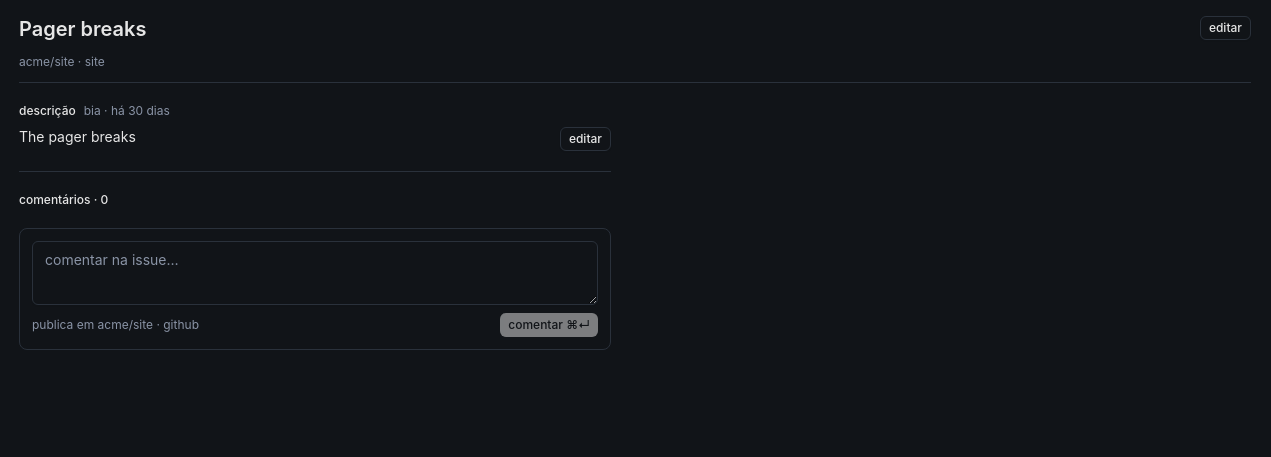
a title edit posts with the updatedAt read; a 409 says so, reloads, keeps the draft, and the next save sends the reloaded updatedAt (#757)
The image size is (1271, 457).
Expected: the heading "Pager breaks" is shown, [19,17,146,41]
Click the 1st button "editar" at (1225,28), box [1200,16,1251,40]
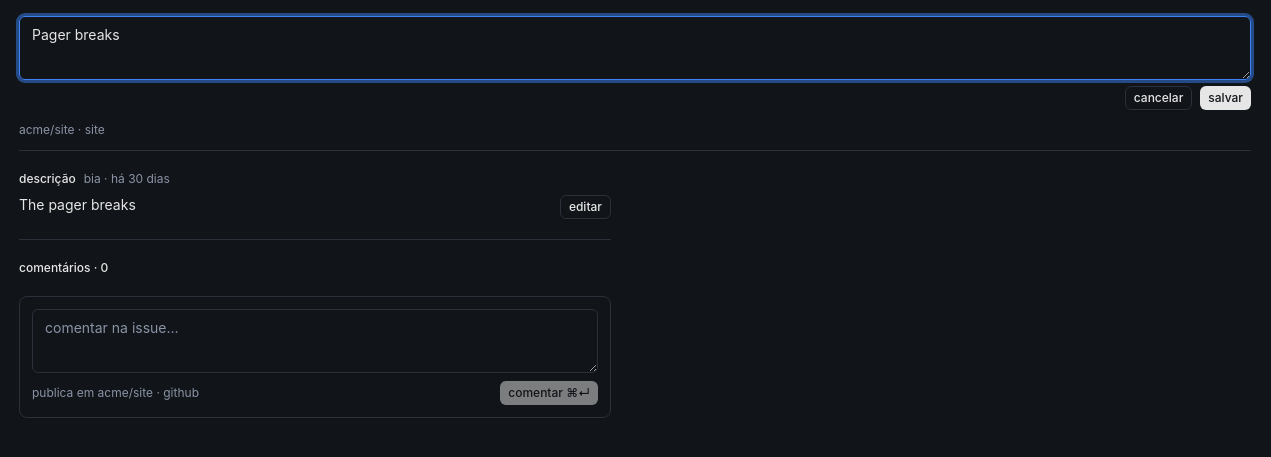
Replace the text in the text box named "título" with "Pager fixed" at (635,48), box [19,16,1251,80]
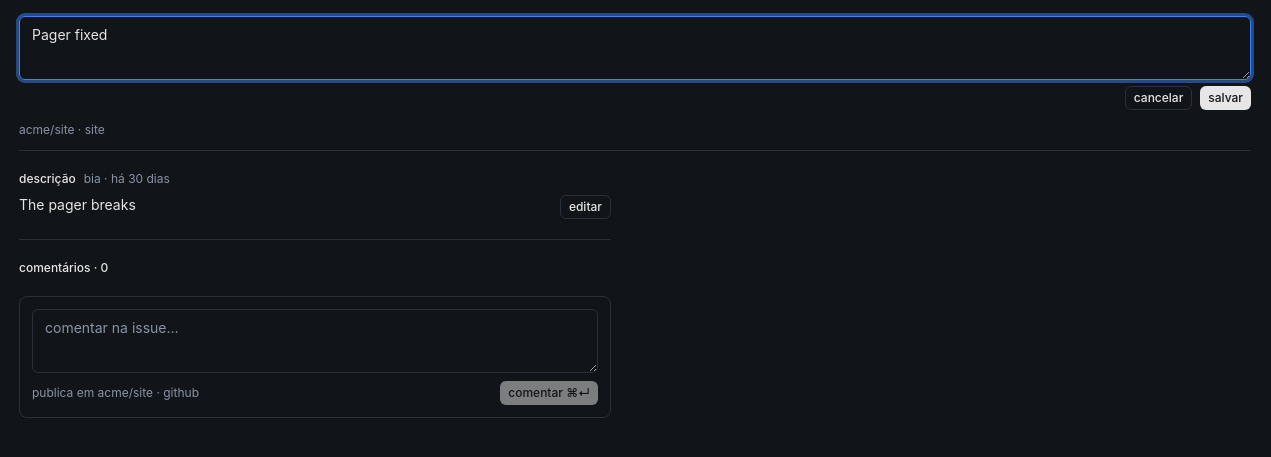
Click the button "salvar" at (1226,98), box [1200,86,1251,110]
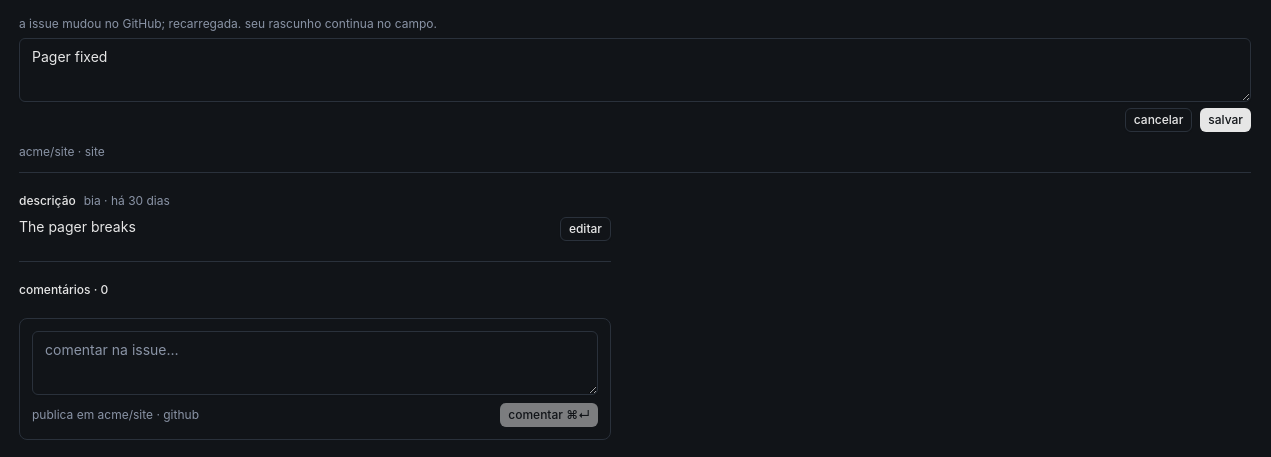
Now the text "a issue mudou no GitHub; recarregada. seu rascunho continua no campo." is shown, box [19,16,437,31]
Click the button "salvar" at (1226,120), box [1200,108,1251,132]
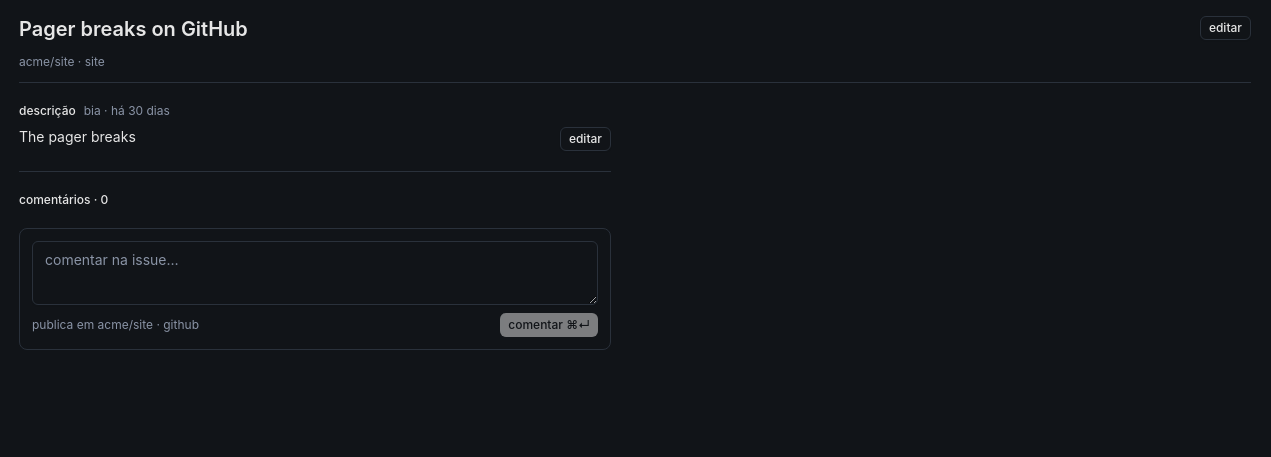
Now the text box labelled "título" is gone
